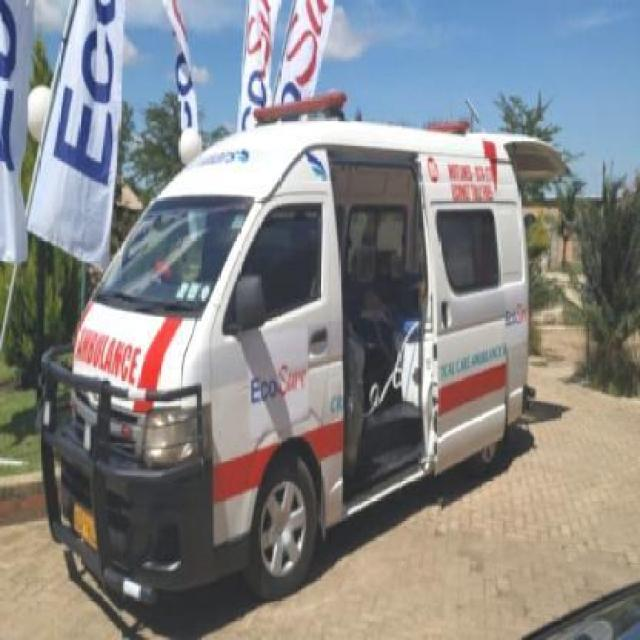Ambulance: (29, 84, 554, 602)
